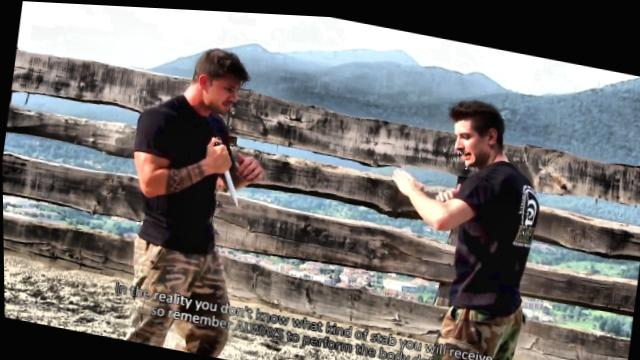knife: (198, 130, 247, 208)
